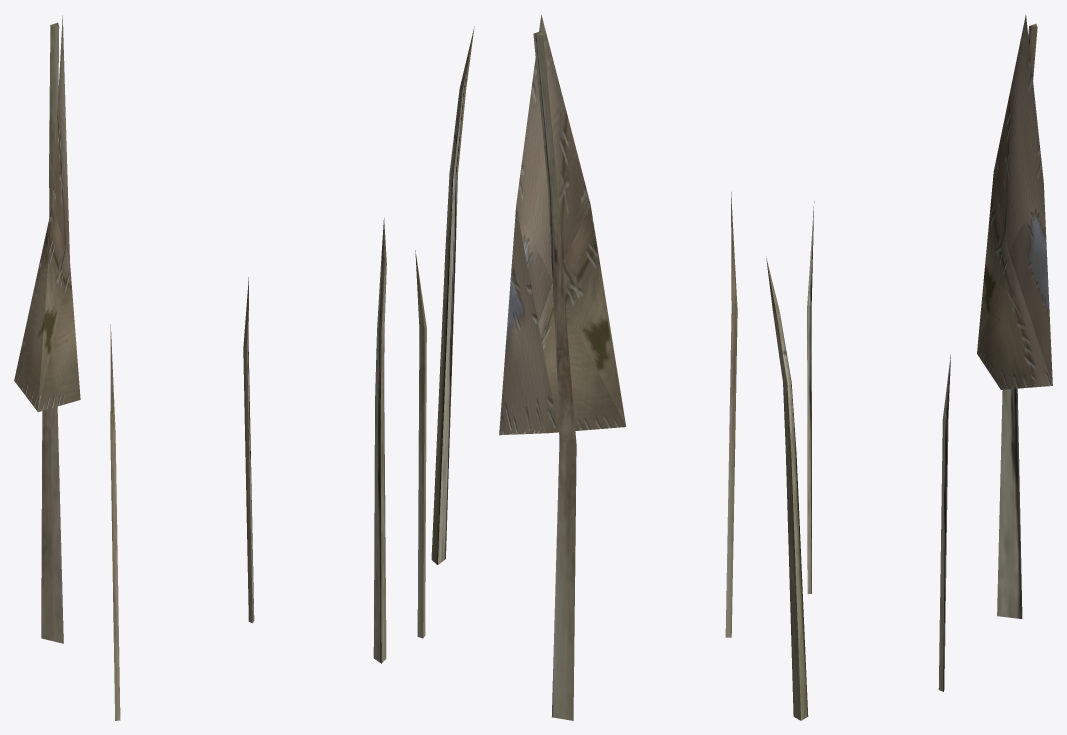
File: pir_m_prp_tnt_single_burned.fbx
3 renders of one model, left to right at view 1: azimuth 30°, elevation 25°; view 2: azimuth 150°, elevation 25°; view 3: azimuth 270°, elevation 25°, orthographic. The views are drawn at different scales.
Visible parts, largest first — view 1: canopies, post23, post13, post7, post24; view 2: canopies, post23, post13, post24, post7; view 3: canopies, post13, post23, post24, post7.
Part boxes in pixels (x1,y1,x2,y2): canopies: (14, 15, 80, 411); post23: (41, 22, 63, 643); post13: (373, 218, 386, 663); post7: (110, 324, 120, 720); post24: (243, 277, 254, 623); canopies: (499, 15, 626, 435); post23: (533, 31, 576, 720); post13: (431, 26, 474, 564); post24: (415, 250, 426, 638); post7: (725, 192, 737, 637); canopies: (977, 15, 1052, 389); post13: (766, 258, 808, 720); post23: (997, 23, 1037, 618); post24: (938, 354, 950, 691); post7: (807, 201, 814, 593).
Size of the model in its own units: 1072 by 2317 by 989.
2 materials, 2 textured.
